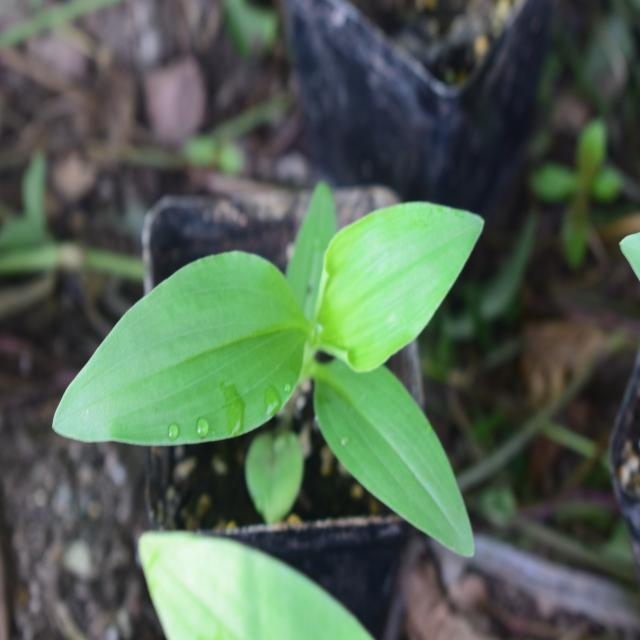Common Dayflower: (73, 184, 492, 570)
